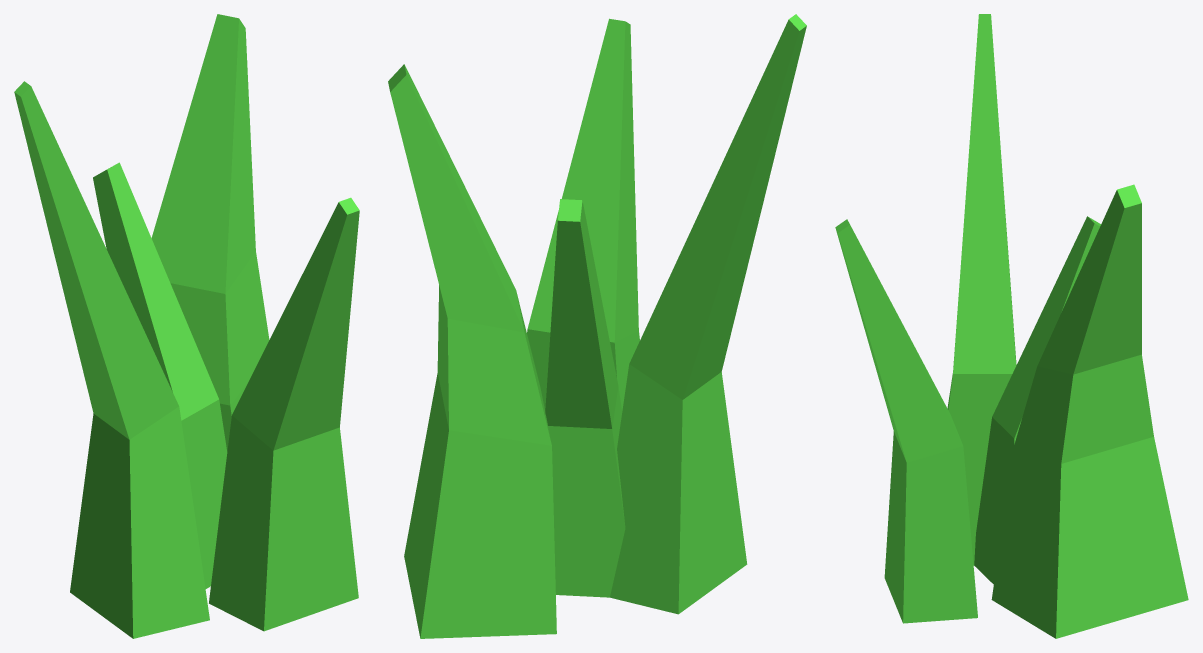
File: 250513 Grass_1draft.fbx
3 renders of one model, left to right at view 1: azimuth 30°, elevation 25°; view 2: azimuth 150°, elevation 25°; view 3: azimuth 270°, elevation 25°, orthographic. The views are drawn at different scales.
Visible parts, largest first — view 1: Plane; view 2: Plane; view 3: Plane.
Boxes of the visible parts, x1=… form: Plane: x1=14, y1=14, x2=359, y2=638; Plane: x1=388, y1=14, x2=806, y2=638; Plane: x1=835, y1=14, x2=1188, y2=638.
Size of the model in its own units: 105 by 167 by 110.
